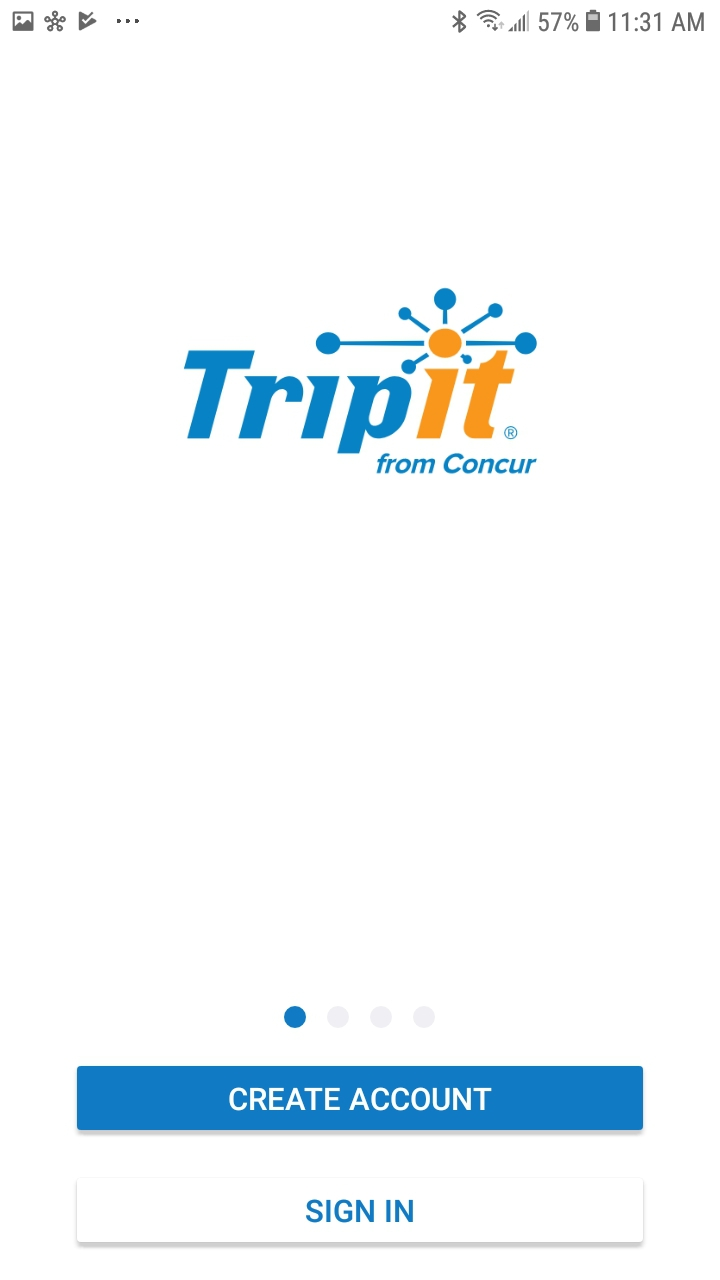Image: (183, 288, 538, 476)
PageIndicator: (284, 1005, 436, 1029)
TextButton: (77, 1177, 644, 1243), (78, 1066, 644, 1131)
UpperTaskBar: (1, 1, 720, 35)
